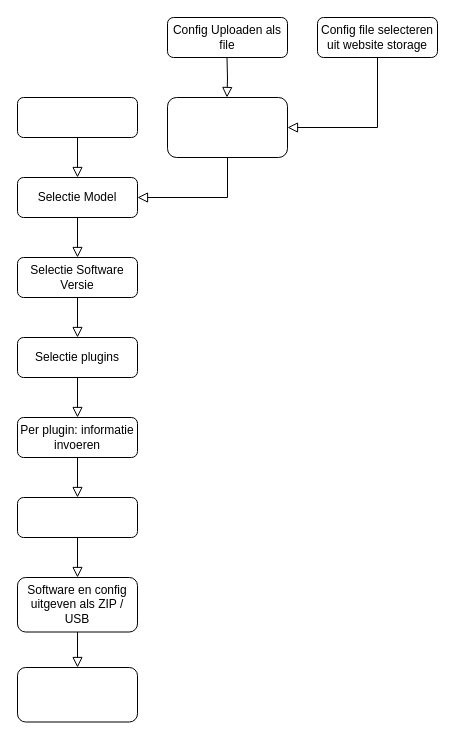
The diagram is 455 pixels wide and 740 high, and some of its shapes have lost their labels. Each missing label, with the centre of its shape:
Config aanmaken: point (77, 117)
Config Yaml omzetten naar Fortigate: point (77, 517)
Gebruiker kan optioneel de yaml downloaden: point (77, 694)
Website waardes vullen met config waardes: point (227, 127)
